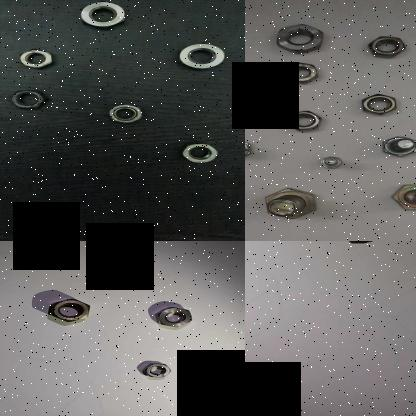Bolts: (255, 184, 323, 220), (377, 131, 416, 160), (391, 177, 416, 212), (316, 154, 351, 170), (245, 133, 259, 163)
NUTS: (165, 38, 234, 74), (268, 21, 332, 55), (66, 0, 130, 30), (361, 28, 413, 60), (350, 88, 405, 118), (96, 98, 152, 124), (176, 134, 224, 164), (48, 294, 96, 322), (277, 104, 328, 130), (6, 83, 50, 113), (276, 58, 326, 84), (156, 302, 195, 330), (12, 46, 60, 68), (139, 362, 173, 380)
